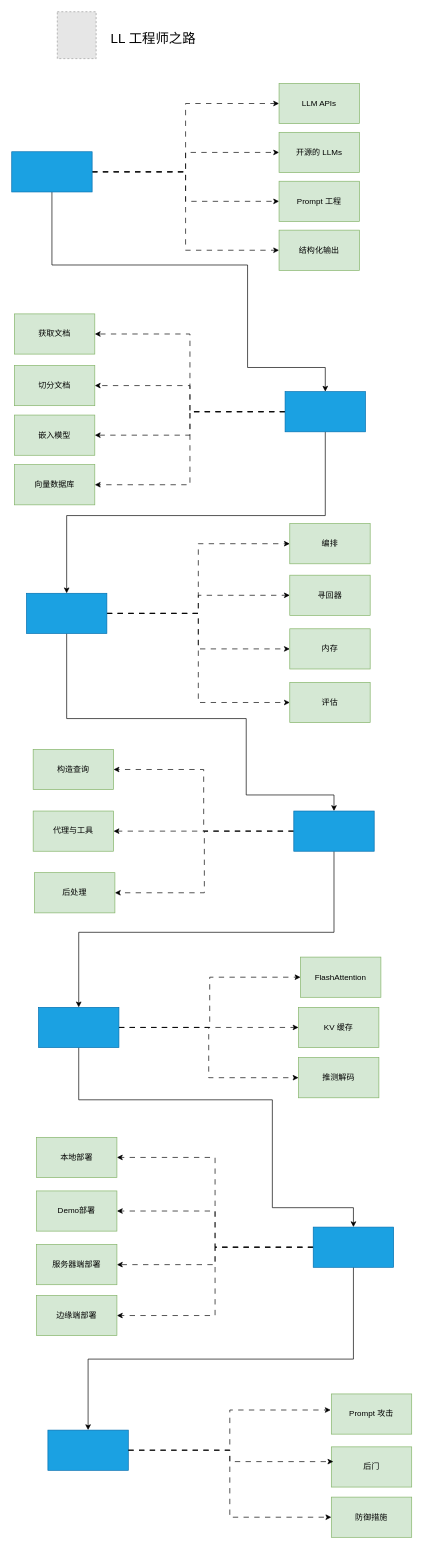
The diagram is 423 pixels wide and 1549 high, and some of its shapes have lost their labels. Grey dashed boxes stand in for pictures. The shapes that lost their labels are listed below. From the top down, each one's box as (x1, y1, x2, y2) in pixels, then its label:
(11, 151, 92, 192): 1. 运行 LLM
(284, 391, 365, 432): 2.构建一个向量存储
(26, 593, 107, 633): 3.RAG
(293, 810, 374, 851): 4.高级RAG
(38, 1007, 119, 1048): 5.推理优化
(313, 1226, 394, 1267): 6.部署 LLMs
(47, 1429, 128, 1470): 7.加固LLMs
